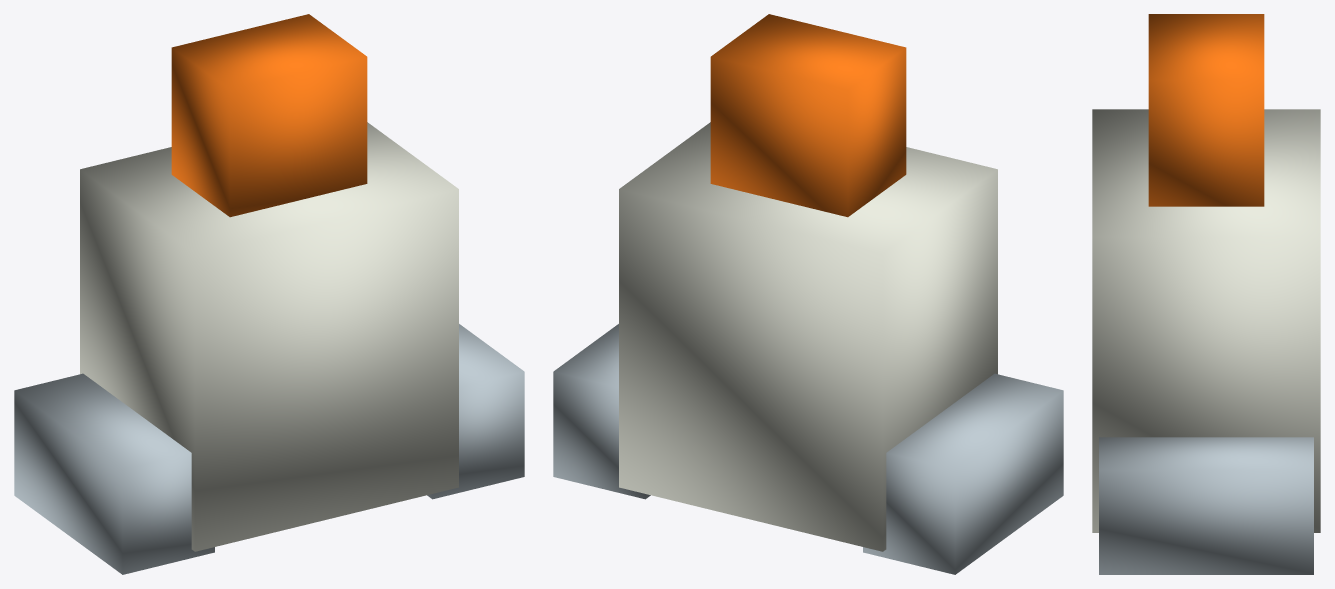
Rendered from 24_L94_LED3_LoadAmber.fbx.
3 renders of one model, left to right at view 1: azimuth 30°, elevation 25°; view 2: azimuth 150°, elevation 25°; view 3: azimuth 270°, elevation 25°, orthographic.
Parts seen in each view (by area): view 1: L94_LoadAmber_Part_0000, L94_LoadAmber_Part_0002, L94_LoadAmber_Part_0001; view 2: L94_LoadAmber_Part_0000, L94_LoadAmber_Part_0002, L94_LoadAmber_Part_0001; view 3: L94_LoadAmber_Part_0000, L94_LoadAmber_Part_0002, L94_LoadAmber_Part_0001.
Part boxes in pixels (box(x1,y1,x2,y2)): L94_LoadAmber_Part_0000: box(80, 122, 458, 551); L94_LoadAmber_Part_0002: box(14, 324, 524, 574); L94_LoadAmber_Part_0001: box(171, 14, 367, 217); L94_LoadAmber_Part_0000: box(619, 122, 997, 551); L94_LoadAmber_Part_0002: box(553, 324, 1063, 574); L94_LoadAmber_Part_0001: box(710, 14, 906, 217); L94_LoadAmber_Part_0000: box(1092, 109, 1320, 532); L94_LoadAmber_Part_0002: box(1099, 437, 1313, 574); L94_LoadAmber_Part_0001: box(1148, 14, 1264, 206).
Size of the model in its own units: 4.8 by 4.95 by 2.38.
